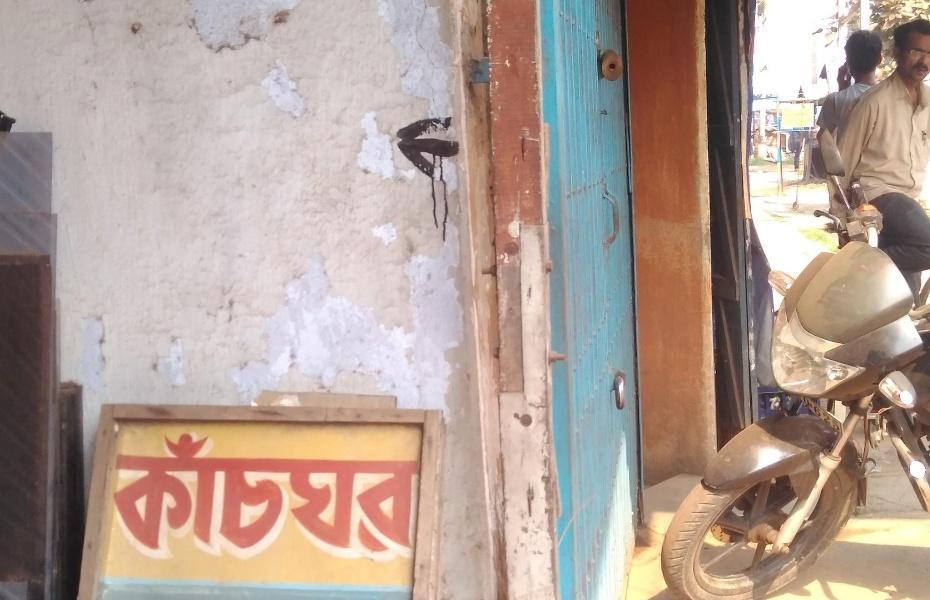text: (129, 425, 144, 560), (145, 425, 160, 560), (161, 425, 176, 560), (177, 425, 192, 560), (193, 425, 208, 560), (209, 425, 224, 560), (225, 425, 240, 560), (241, 425, 256, 560), (257, 425, 272, 560), (273, 425, 288, 560), (289, 425, 304, 560), (305, 425, 320, 560), (321, 425, 336, 560), (337, 425, 352, 560), (353, 425, 368, 560), (369, 425, 384, 560), (385, 425, 400, 560), (401, 425, 416, 560), (115, 425, 128, 560), (417, 425, 423, 560)
